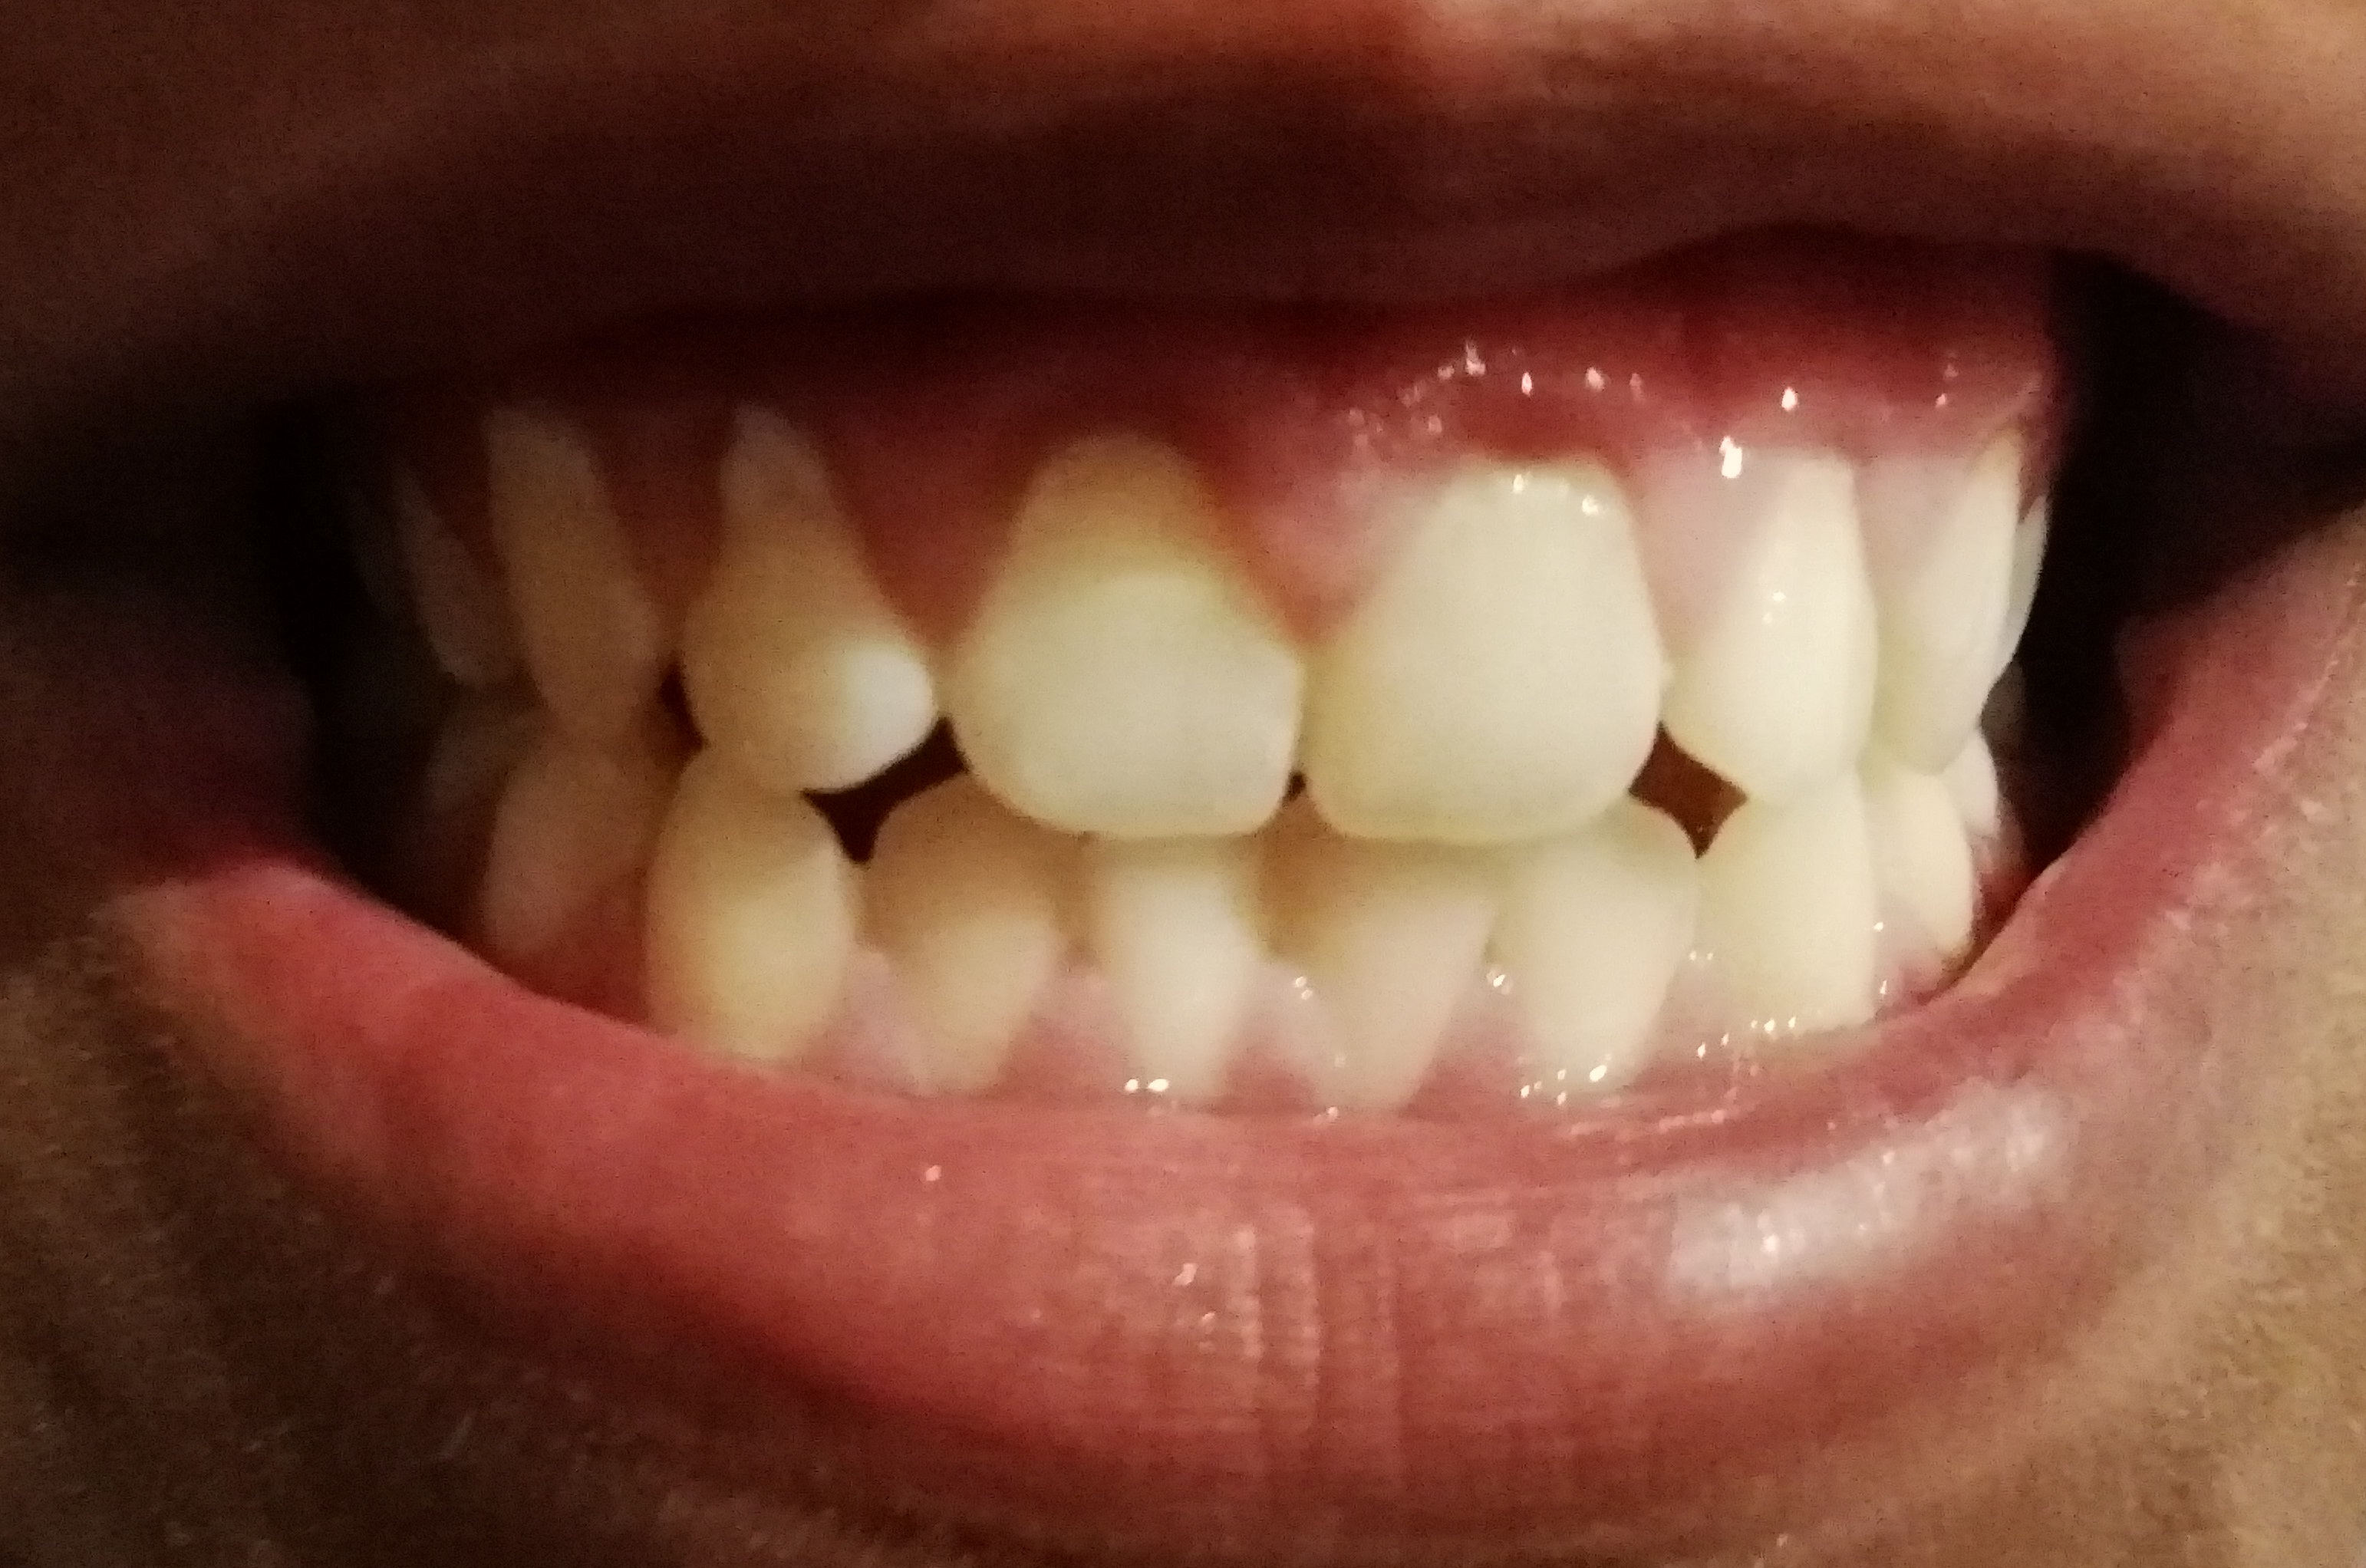boca: (376, 388, 2023, 1097)
